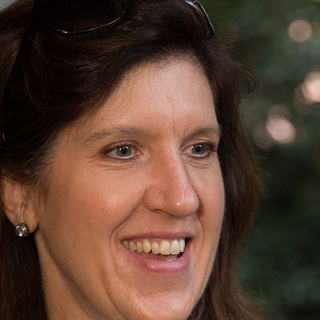eye: (90, 134, 147, 169), (173, 134, 222, 166)
